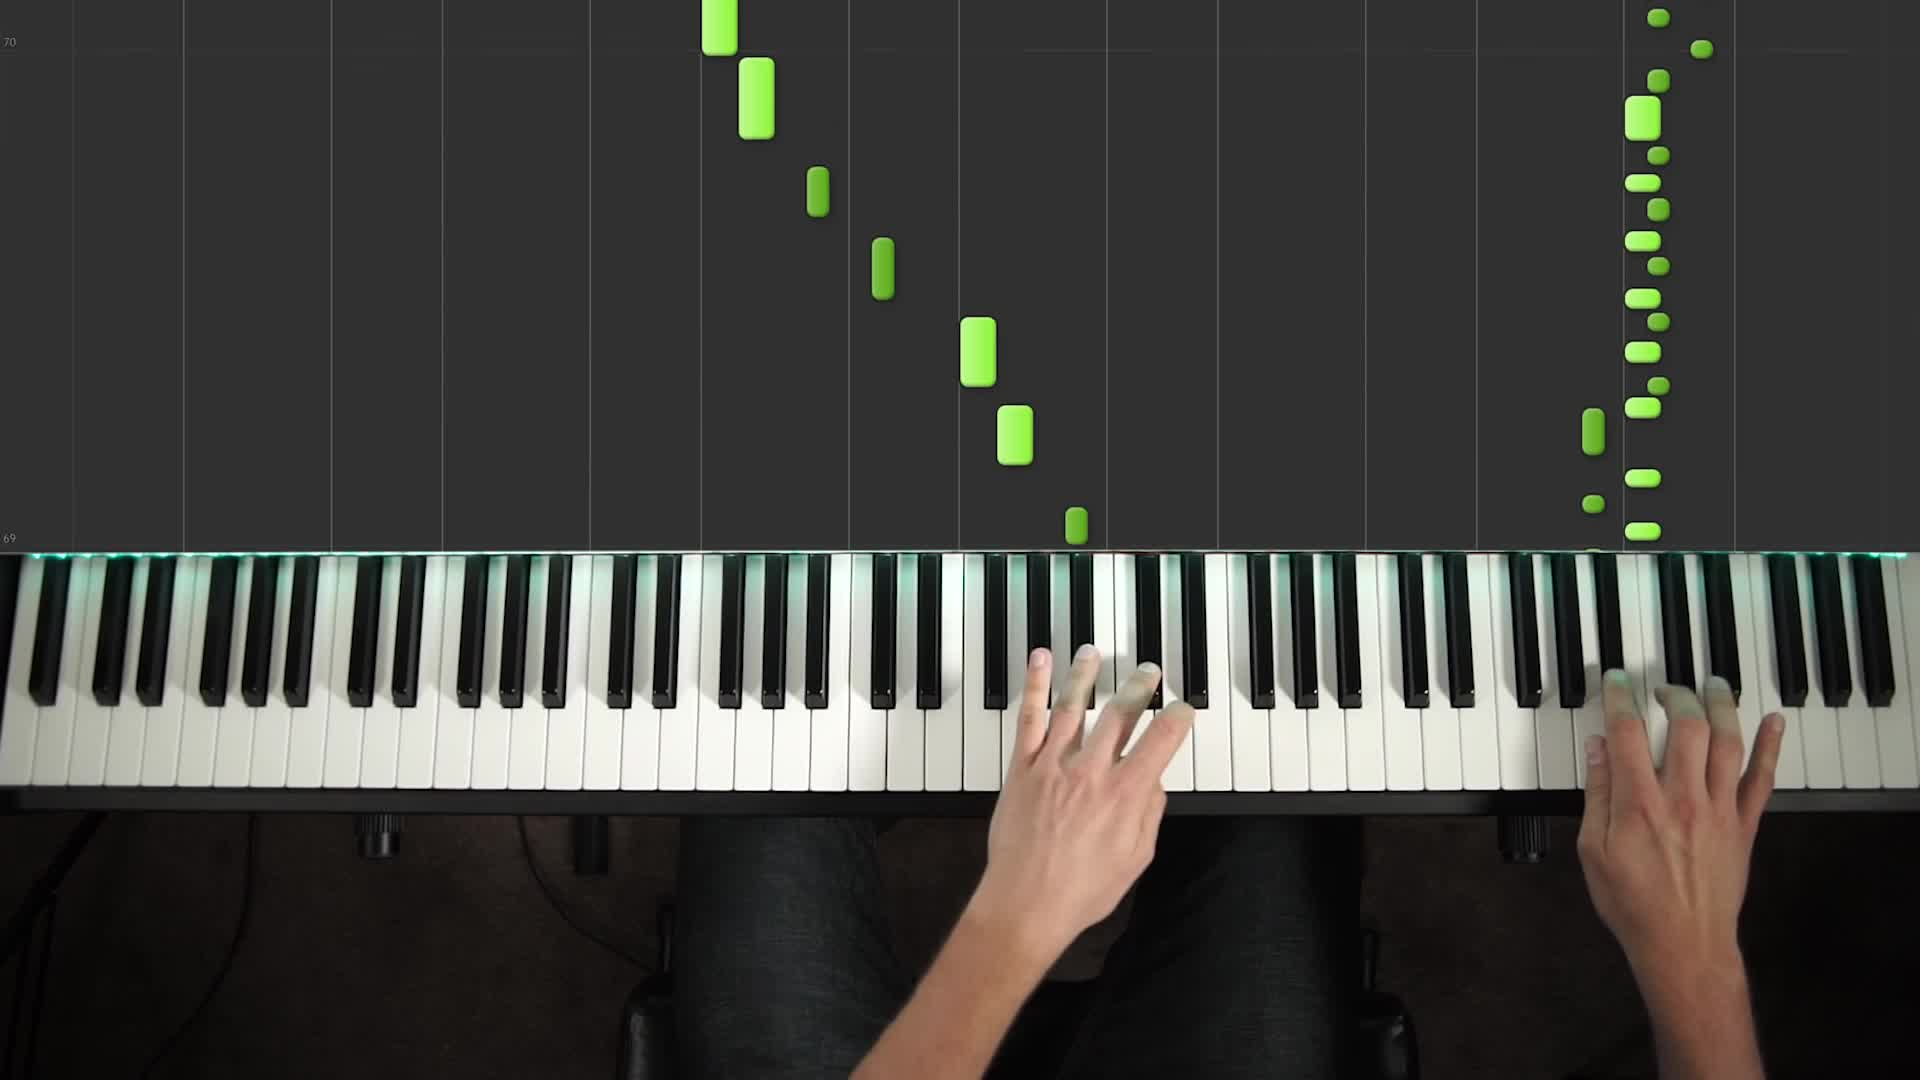left: (964, 640, 1207, 909)
right: (1567, 662, 1792, 935)
